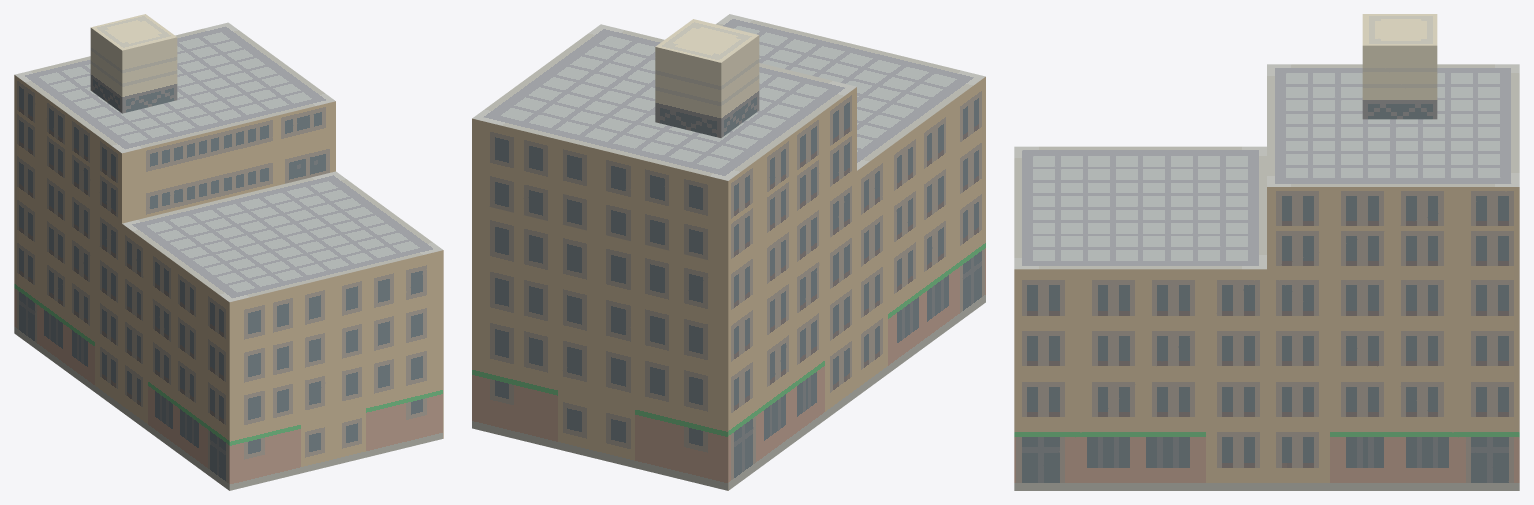
Rendered from 05ac_Guppy_Building.glb.
The picture shows the model from 3 angles, left to right: view 1: azimuth 30°, elevation 25°; view 2: azimuth 150°, elevation 25°; view 3: azimuth 270°, elevation 25°; orthographic projection. The views are drawn at different scales.
Parts seen in each view (by area): view 1: part_0; view 2: part_0; view 3: part_0.
Boxes of the visible parts, x1=… form: part_0: x1=14, y1=14, x2=443, y2=490; part_0: x1=472, y1=14, x2=985, y2=490; part_0: x1=1014, y1=14, x2=1519, y2=490.
Bounding box in the file's own units: 10.5 × 15.09 × 18.28.
Materials: 1 (1 with a texture image).
